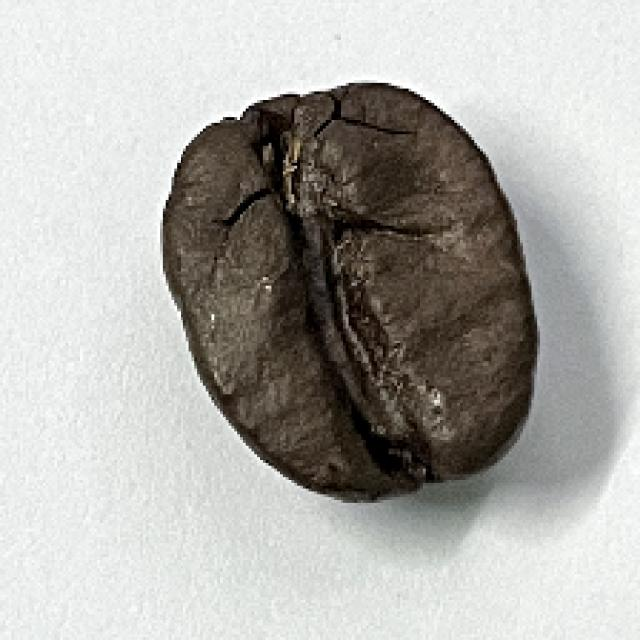bean: (158, 80, 541, 501)
